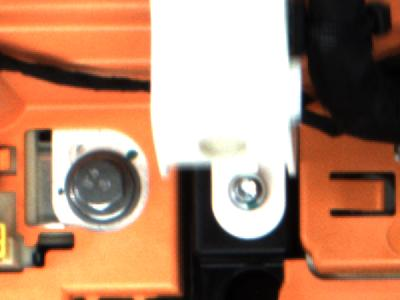nut_b: (65, 147, 146, 224)
screw_m: (224, 173, 274, 220)
